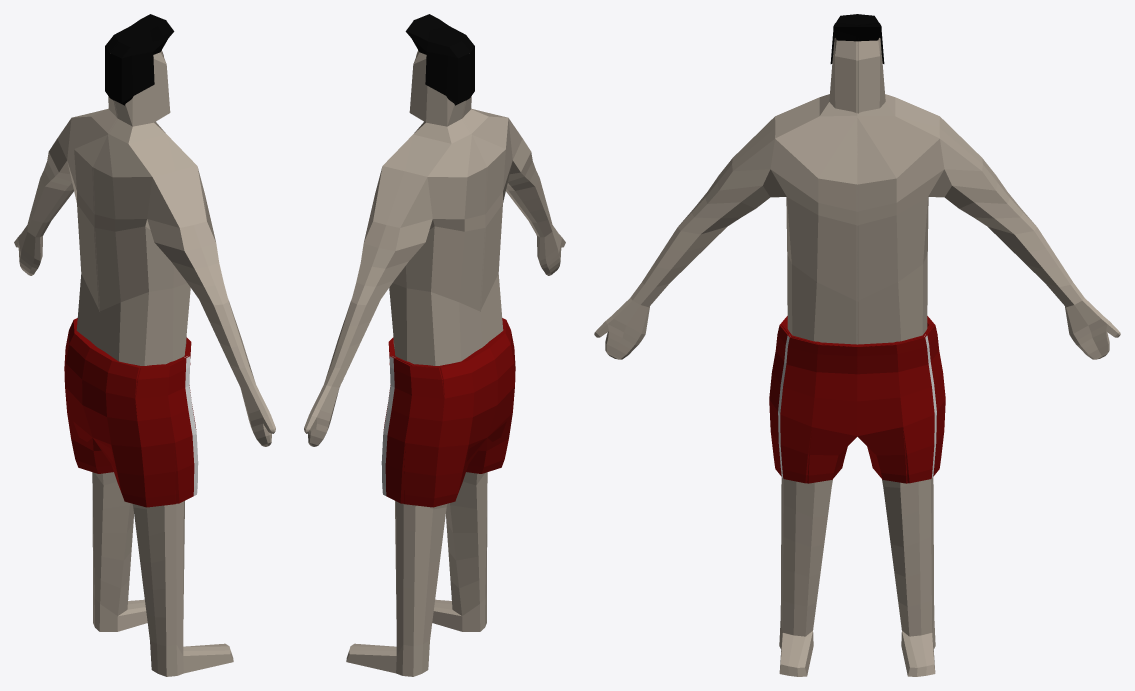
The model's file is swimsuitgoodhair.fbx.
3 views of the same model, side by side, from view 1: azimuth 30°, elevation 25°; view 2: azimuth 150°, elevation 25°; view 3: azimuth 270°, elevation 25° (orthographic).
Visible parts, largest first — view 1: Cube.001; view 2: Cube.001; view 3: Cube.001.
Boxes of the visible parts, x1=… form: Cube.001: x1=14, y1=14, x2=275, y2=676; Cube.001: x1=304, y1=14, x2=565, y2=676; Cube.001: x1=594, y1=14, x2=1120, y2=676.
Size of the model in its own units: 146 by 727 by 548.
